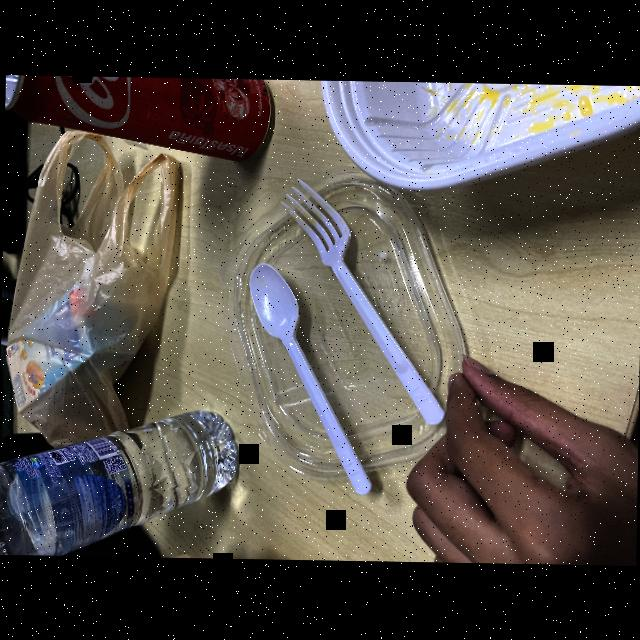plastic_cultery: (276, 174, 460, 426), (223, 254, 377, 496)
